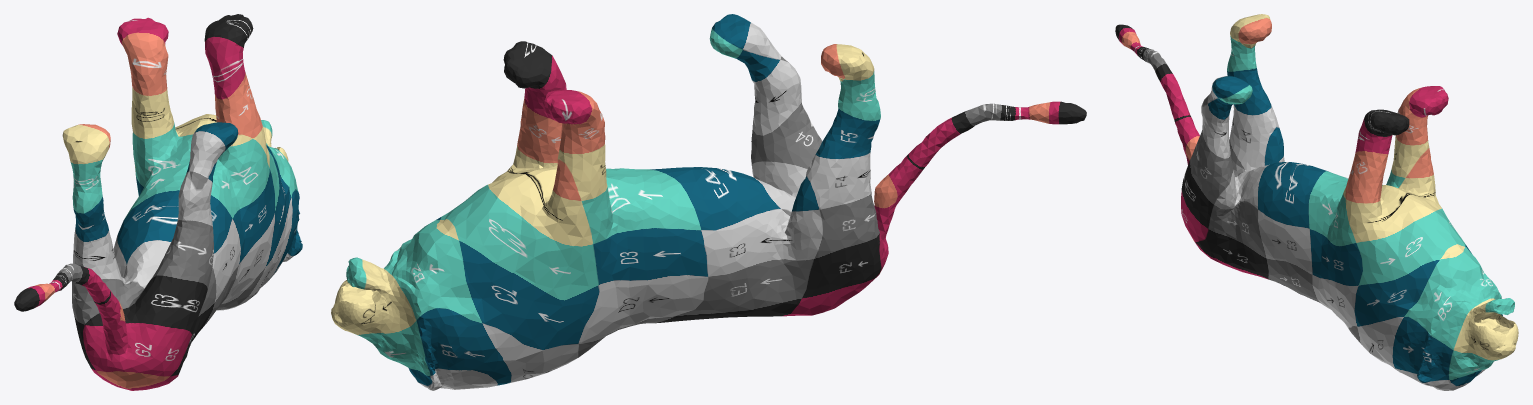
Rendered from horse_01-lion_05.obj.
3 views of the same model, side by side, from view 1: azimuth 30°, elevation 25°; view 2: azimuth 150°, elevation 25°; view 3: azimuth 270°, elevation 25° (orthographic). The views are drawn at different scales.
Parts seen in each view (by area): view 1: horse_01-lion_05_export; view 2: horse_01-lion_05_export; view 3: horse_01-lion_05_export.
Part boxes in pixels (x1,y1,x2,y2): horse_01-lion_05_export: [14, 14, 302, 390]; horse_01-lion_05_export: [331, 14, 1086, 390]; horse_01-lion_05_export: [1115, 14, 1518, 390].
Bounding box in the file's own units: 0.9703 × 0.5734 × 0.8065.
